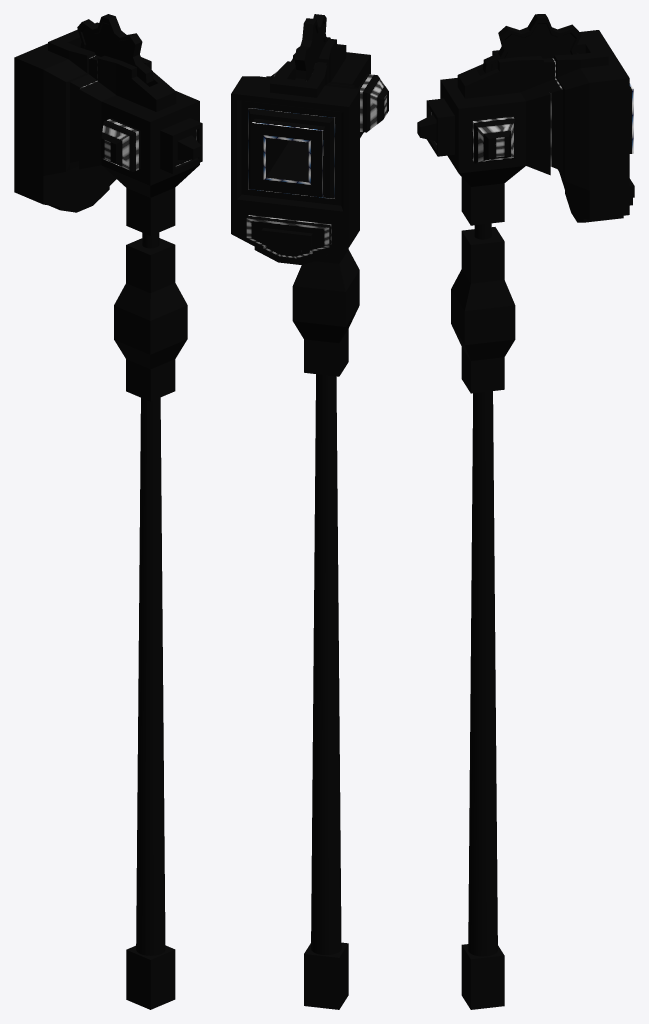
Rendered from Dispenser_2_0.fbx.
3 views of the same model, side by side, from view 1: azimuth 30°, elevation 25°; view 2: azimuth 150°, elevation 25°; view 3: azimuth 270°, elevation 25° (orthographic). The views are drawn at different scales.
Visible parts, largest first — view 1: Dispenser, Dispenser_Prop_0, Dispenser_Prop_1, Gear; view 2: Dispenser, Dispenser_Prop_0, Dispenser_Prop_1, Gear; view 3: Dispenser, Dispenser_Prop_0, Dispenser_Prop_1, Gear.
Boxes of the visible parts, <box> form: Dispenser: <box>14,22,202,212</box>; Dispenser_Prop_0: <box>126,188,175,1009</box>; Dispenser_Prop_1: <box>114,238,187,401</box>; Gear: <box>77,14,153,83</box>; Dispenser: <box>231,38,388,264</box>; Dispenser_Prop_0: <box>304,374,348,1009</box>; Dispenser_Prop_1: <box>292,247,359,376</box>; Gear: <box>294,14,330,81</box>; Dispenser: <box>417,30,634,222</box>; Dispenser_Prop_0: <box>461,177,504,1009</box>; Dispenser_Prop_1: <box>451,227,515,393</box>; Gear: <box>483,14,581,73</box>.
Bounding box in the file's own units: 1.29 × 9.08 × 1.83.
1 material, 1 textured.
